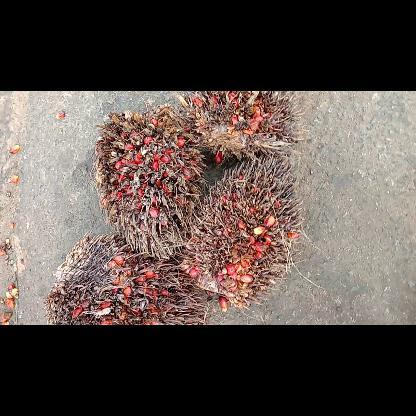Terlalu masak: (180, 153, 308, 309), (88, 102, 212, 260), (43, 232, 211, 324), (171, 91, 311, 167)
